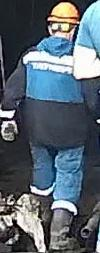gloves: (0, 116, 21, 143)
helmet: (45, 1, 80, 27)
vest: (18, 39, 91, 146)
